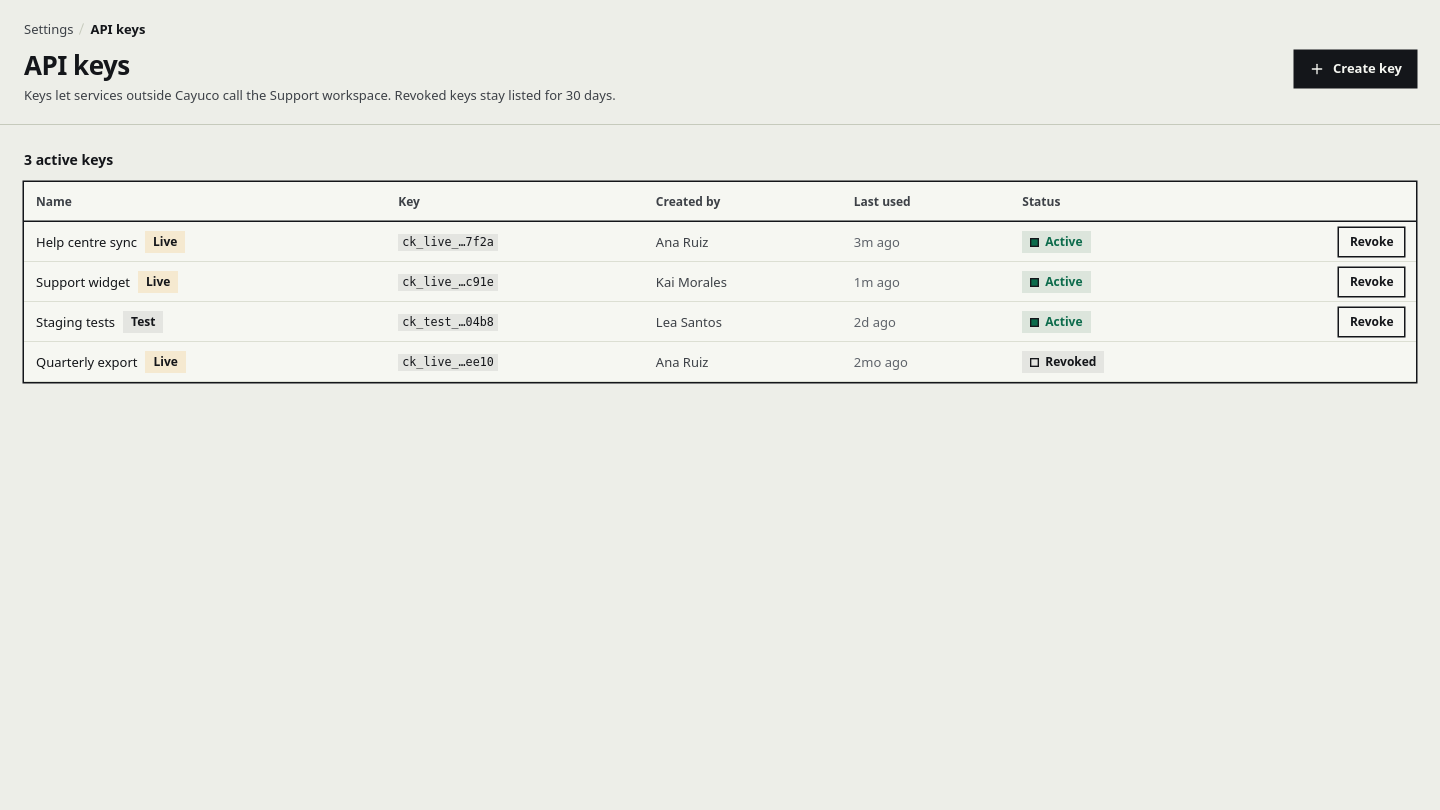
ApiKeysScreen › a live key arms only once its name is typed, then revokes and says so
Click the button with aria-label "Revoke Support widget".
click(1372, 282)  # box top-left (1339, 268), bottom-right (1404, 296)
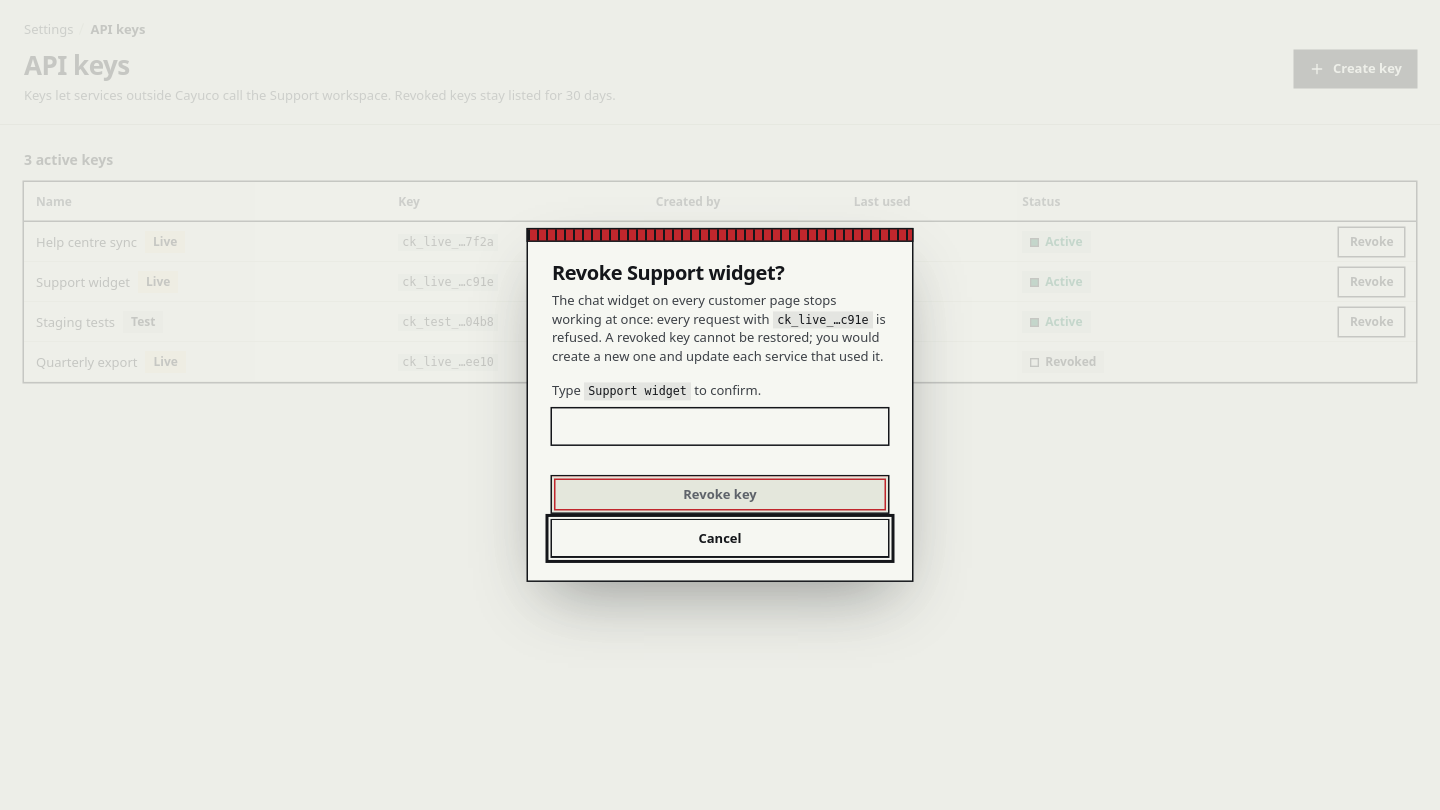
Expected: the button "Revoke key" is disabled, top-left (552, 477), bottom-right (888, 513)
Type "Support widget" into the field.
click(720, 427); type("Support widget")  # box top-left (552, 409), bottom-right (888, 445)
Then press Enter
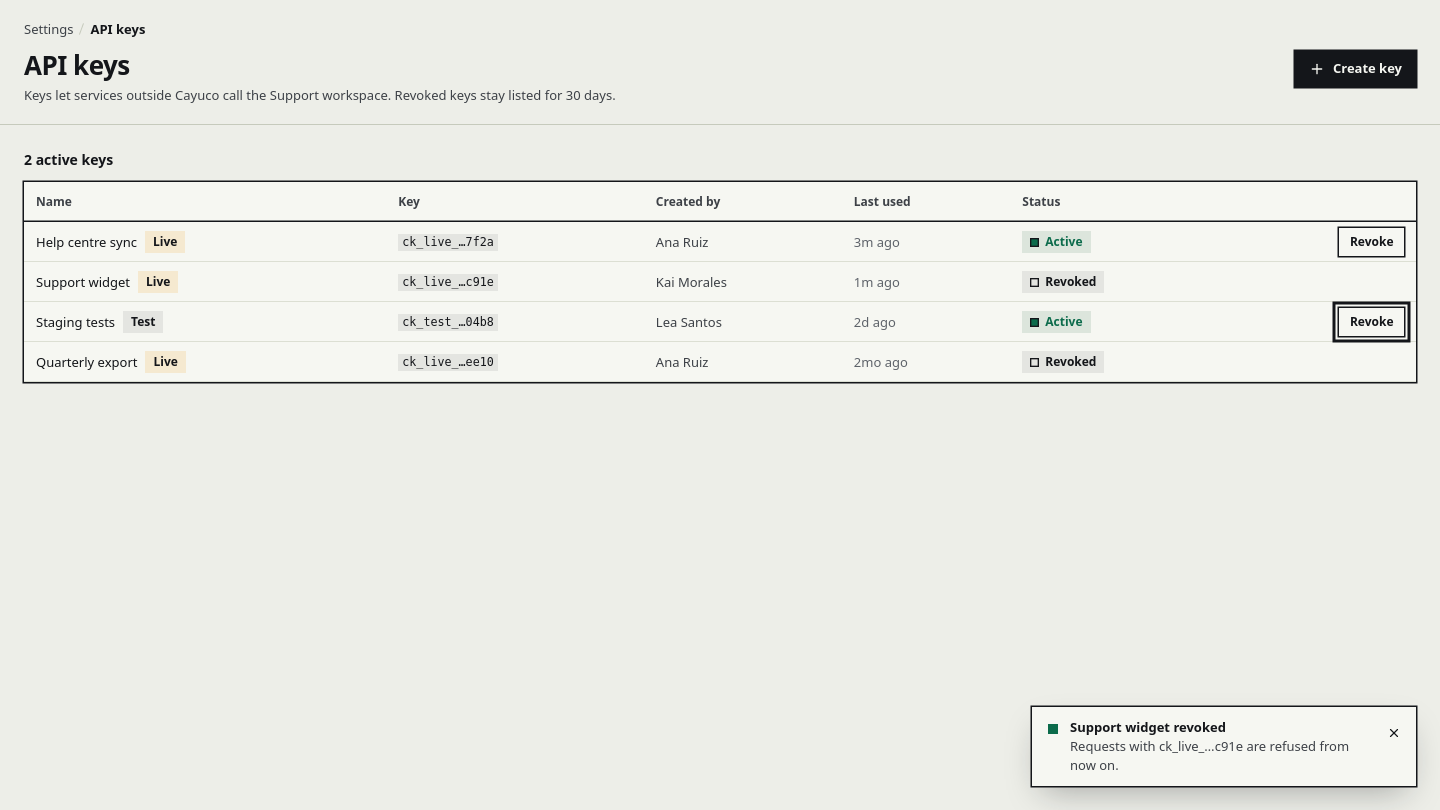
Expected: the table named "2 active keys" is shown, top-left (24, 182), bottom-right (1416, 382)
Expected: the heading "Support widget revoked" is shown, top-left (1069, 717), bottom-right (1226, 736)
